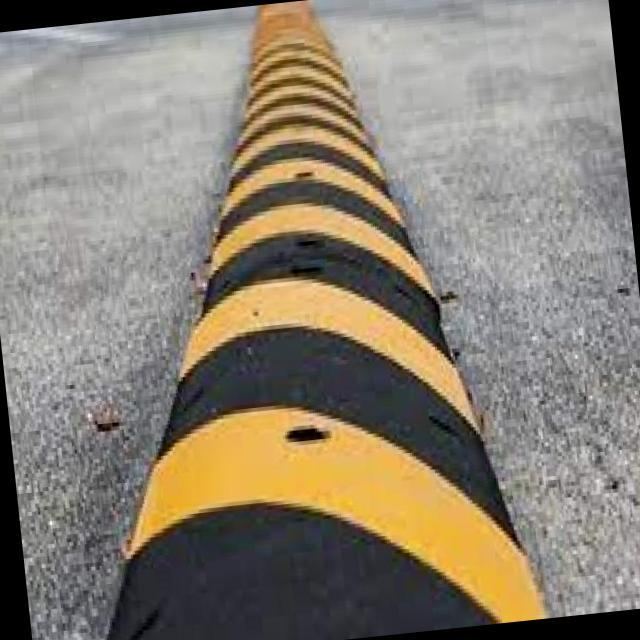speedbreaker: (28, 0, 547, 640)
